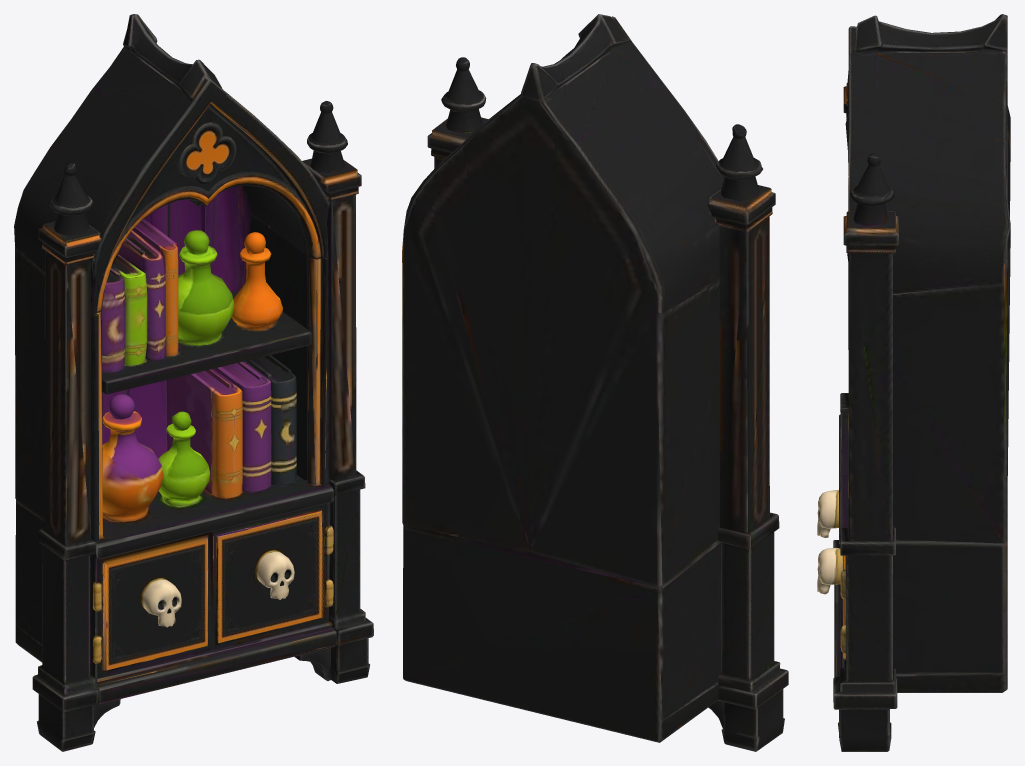
Rendered from halloween_potion_bookcase.glb.
3 renders of one model, left to right at view 1: azimuth 30°, elevation 25°; view 2: azimuth 150°, elevation 25°; view 3: azimuth 270°, elevation 25°, orthographic. The views are drawn at different scales.
Parts seen in each view (by area): view 1: furniture-fit; view 2: furniture-fit; view 3: furniture-fit.
Part boxes in pixels (x1,y1,x2,y2): furniture-fit: (14,14,373,751); furniture-fit: (402,14,788,751); furniture-fit: (817,14,1010,751).
Bounding box in the file's own units: 1.77 × 3.5 × 0.9302.
Materials: 1 (1 with a texture image).
